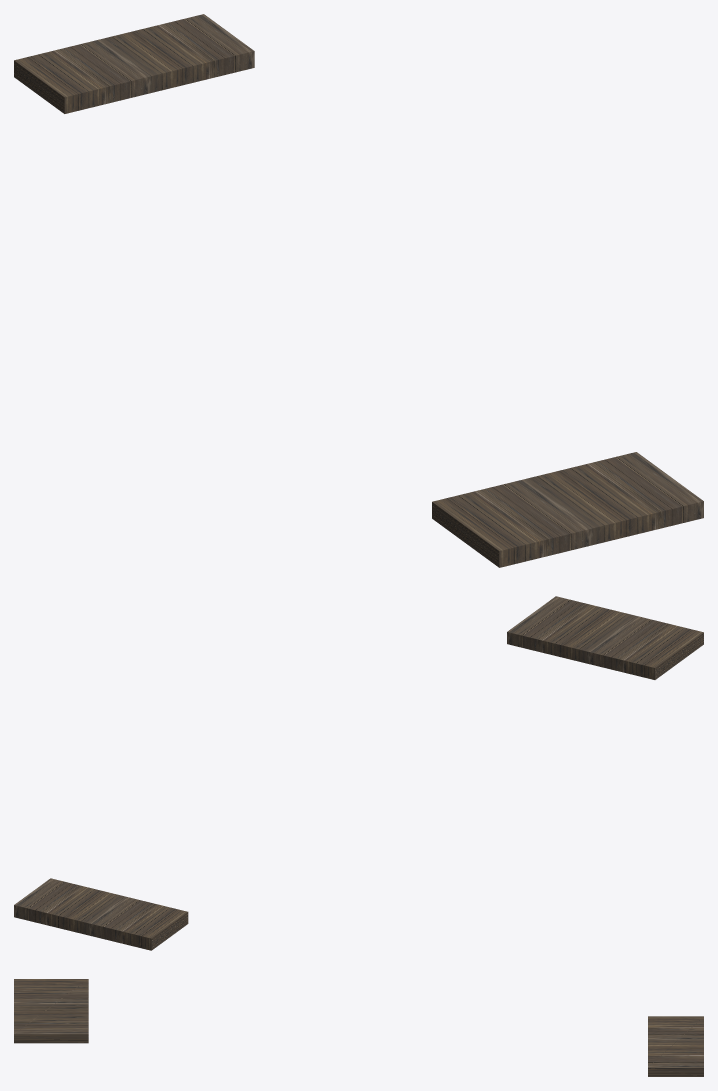
The model's file is BW_Bakery01_Thresholds.fbx.
3 renders of one model, top to bottom at view 1: azimuth 30°, elevation 25°; view 2: azimuth 150°, elevation 25°; view 3: azimuth 270°, elevation 25°, orthographic. The views are drawn at different scales.
Parts seen in each view (by area): view 1: BW_Bakery01_Thresholds; view 2: BW_Bakery01_Thresholds; view 3: BW_Bakery01_Thresholds.
Part boxes in pixels (x1,y1,x2,y2): BW_Bakery01_Thresholds: (14,14,703,567); BW_Bakery01_Thresholds: (14,596,703,950); BW_Bakery01_Thresholds: (14,979,703,1076).
Size of the model in its own units: 2.25 by 0.11 by 7.4.
